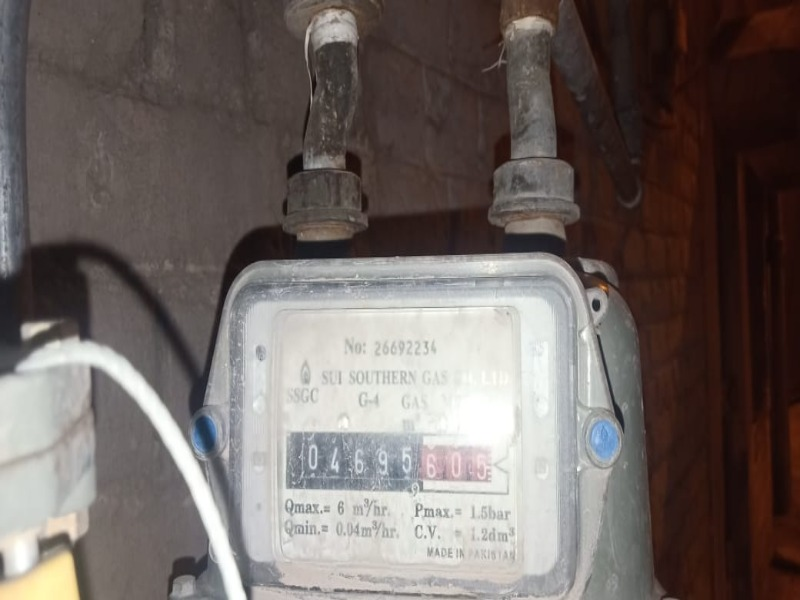ssgc: (289, 437, 496, 486)
